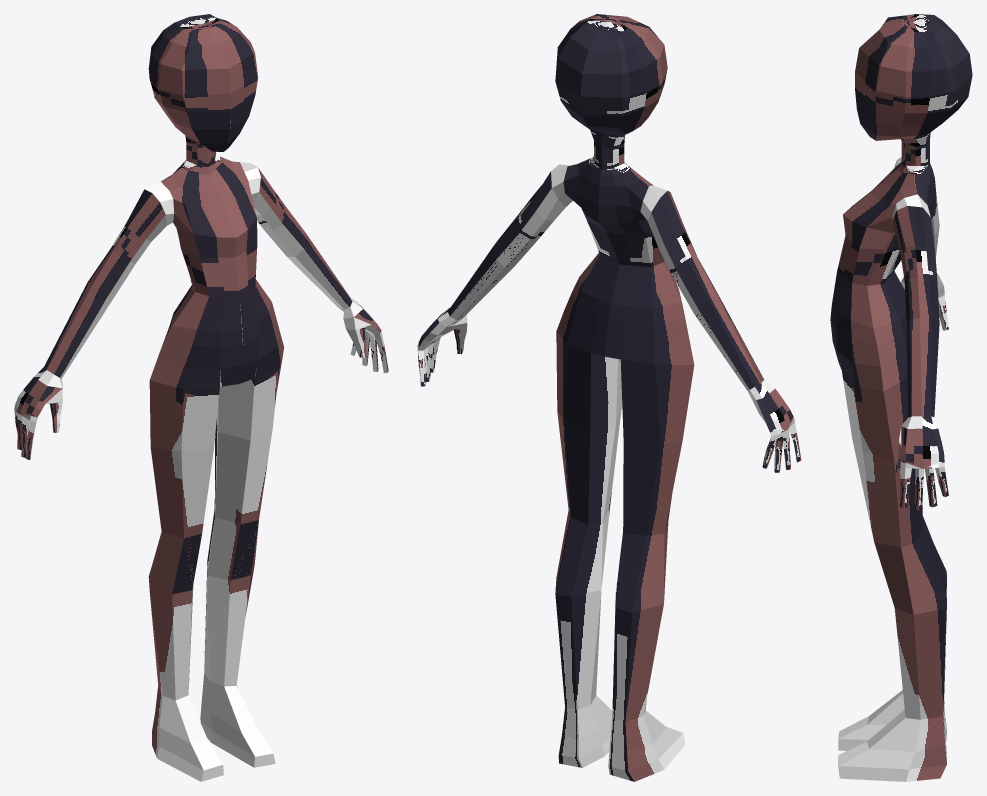
The model's file is Dannerman.gltf.
The picture shows the model from 3 angles, left to right: view 1: azimuth 30°, elevation 25°; view 2: azimuth 150°, elevation 25°; view 3: azimuth 270°, elevation 25°; orthographic projection. The views are drawn at different scales.
Visible parts, largest first — view 1: Cylinder; view 2: Cylinder; view 3: Cylinder.
Part boxes in pixels (x1,y1,x2,y2): Cylinder: (14, 14, 388, 781); Cylinder: (417, 14, 801, 781); Cylinder: (830, 14, 972, 781).
Size of the model in its own units: 2.33 by 4.44 by 0.7746.
1 material, 1 textured.
